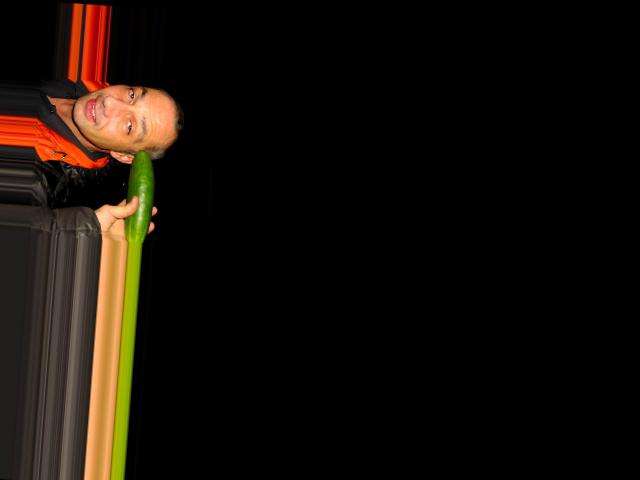cucumber: (123, 148, 157, 243)
